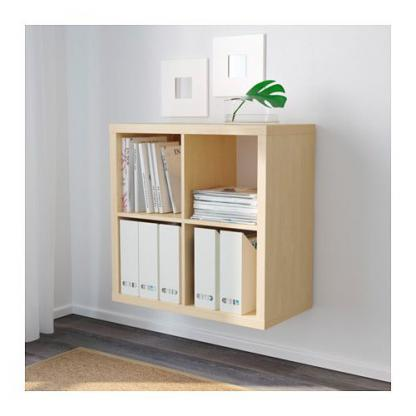lamp: (110, 122, 318, 332)
